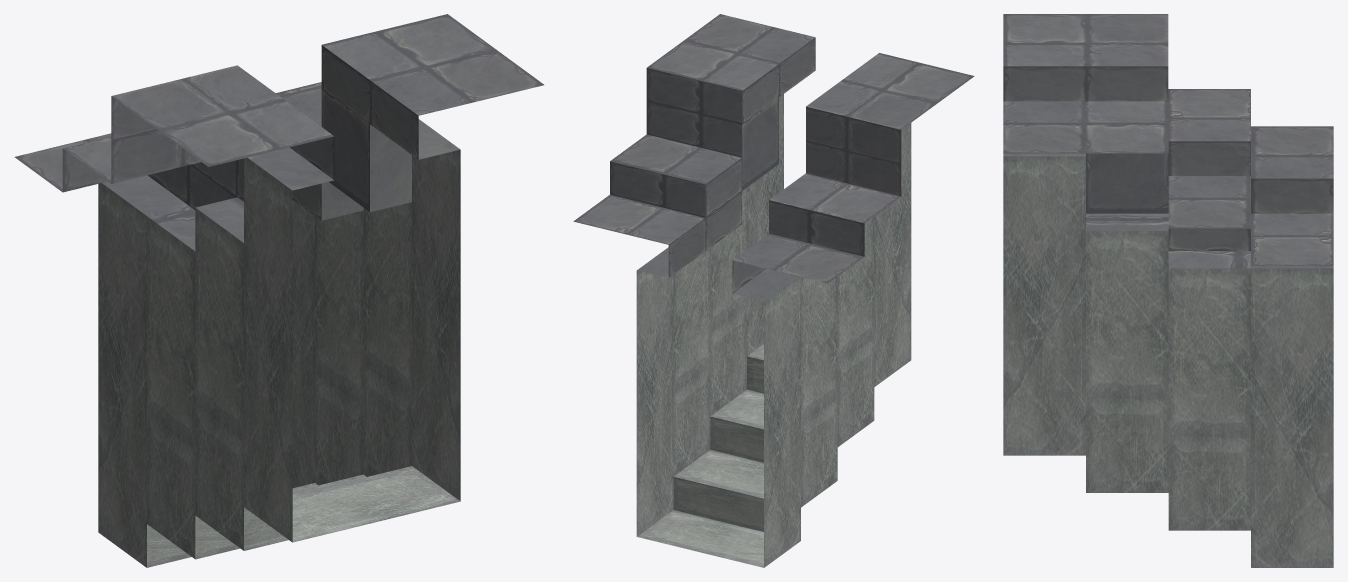
The model's file is tight_stairs.FBX.
3 renders of one model, left to right at view 1: azimuth 30°, elevation 25°; view 2: azimuth 150°, elevation 25°; view 3: azimuth 270°, elevation 25°, orthographic. The views are drawn at different scales.
Parts seen in each view (by area): view 1: ice_tight_stairs; view 2: ice_tight_stairs; view 3: ice_tight_stairs.
Boxes of the visible parts, x1,y1,x2,y2 form: ice_tight_stairs: (14, 14, 543, 567); ice_tight_stairs: (573, 14, 974, 567); ice_tight_stairs: (1003, 14, 1333, 567).
Bounding box in the file's own units: 40 × 60 × 40.
